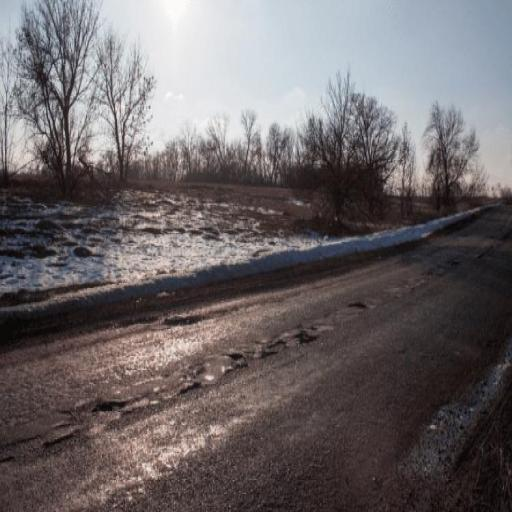hole: (226, 350, 247, 369), (99, 395, 120, 413), (170, 317, 200, 327), (300, 331, 321, 343)
